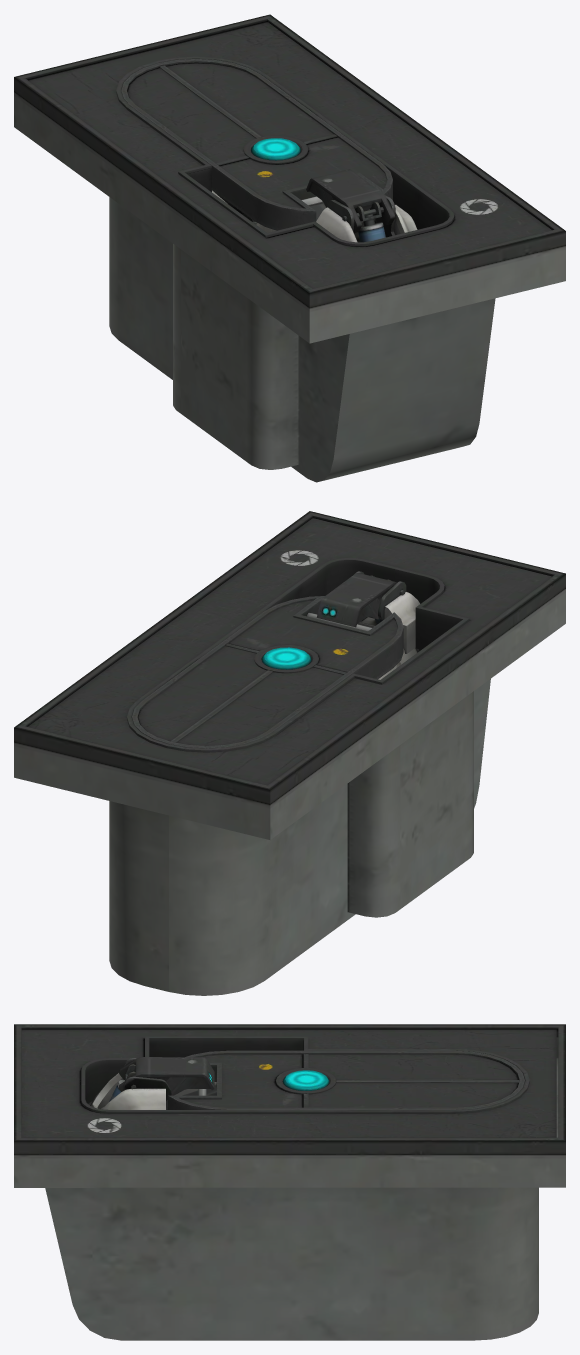
The model's file is faith_plate.glb.
The picture shows the model from 3 angles, top to bottom: view 1: azimuth 30°, elevation 25°; view 2: azimuth 150°, elevation 25°; view 3: azimuth 270°, elevation 25°; orthographic projection. The views are drawn at different scales.
Visible parts, largest first — view 1: base, Faith_plate.044; view 2: base, Faith_plate.044; view 3: base, Faith_plate.044.
Boxes of the visible parts, <box> form: base: <box>14,14,565,482</box>; Faith_plate.044: <box>116,56,453,246</box>; base: <box>14,511,565,995</box>; Faith_plate.044: <box>127,558,469,752</box>; base: <box>14,1024,565,1340</box>; Faith_plate.044: <box>81,1036,529,1113</box>.
Bounding box in the file's own units: 0.9601 × 0.918 × 1.92.
Materials: 2 (2 with a texture image).
